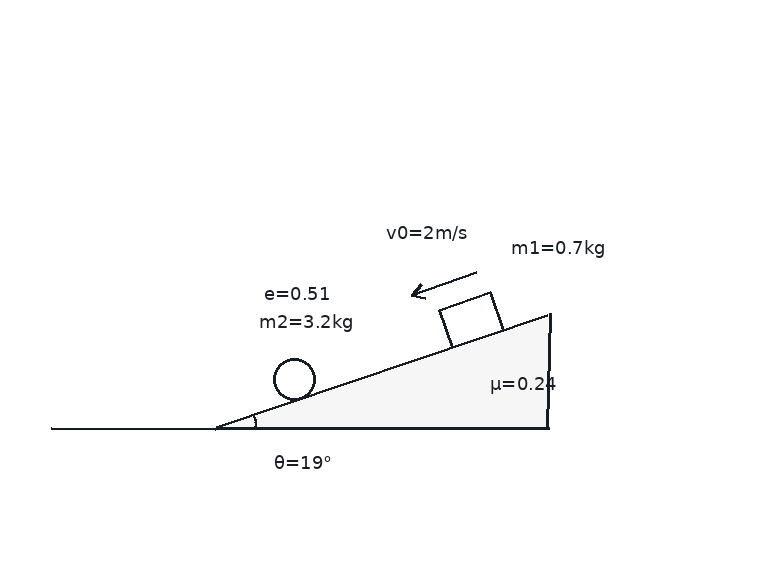ball: (271, 356, 317, 402)
block: (437, 290, 504, 349)
ramp: (214, 312, 550, 430)
